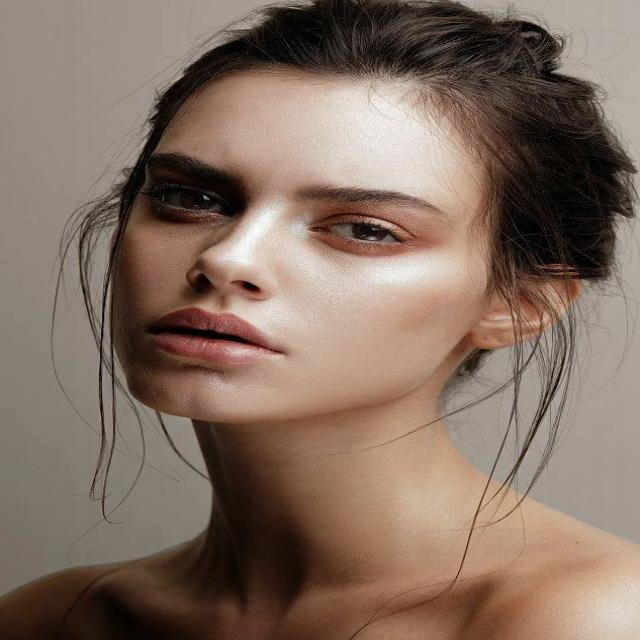earlobe: (468, 263, 582, 350)
